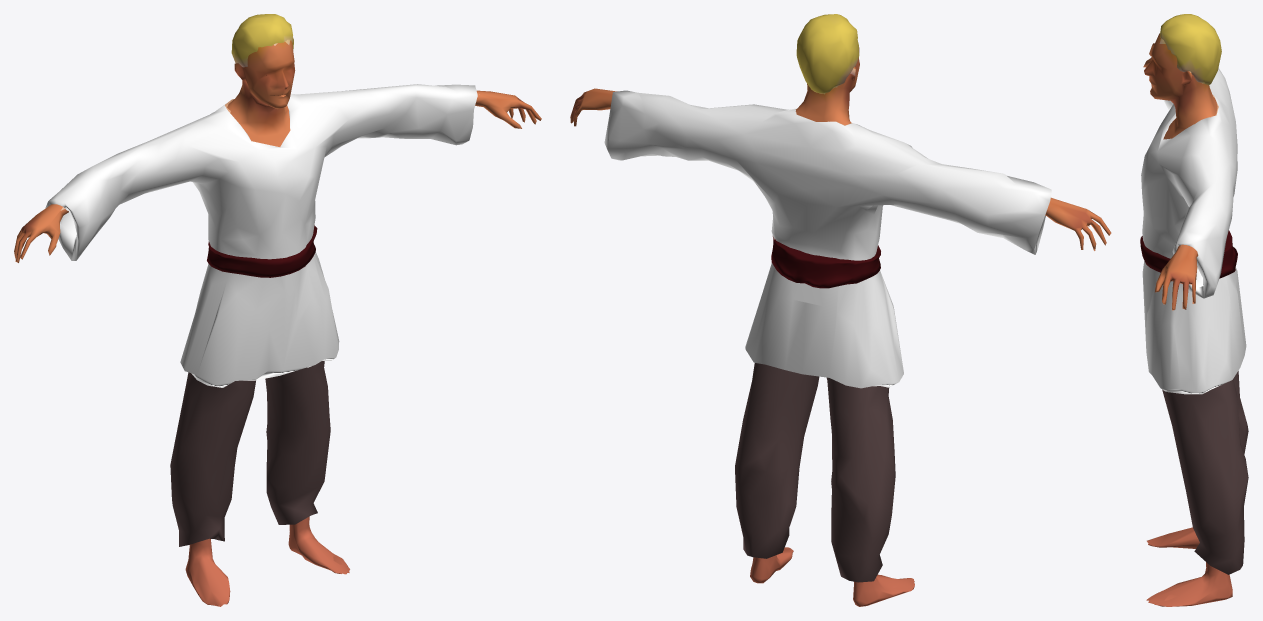
File: Man3.fbx
3 renders of one model, left to right at view 1: azimuth 30°, elevation 25°; view 2: azimuth 150°, elevation 25°; view 3: azimuth 270°, elevation 25°, orthographic.
Visible parts, largest first — view 1: Merged_Extract9; view 2: Merged_Extract9; view 3: Merged_Extract9.
Boxes of the visible parts, box(x1,y1,x2,y2) form: Merged_Extract9: box(14, 14, 541, 606); Merged_Extract9: box(570, 14, 1111, 606); Merged_Extract9: box(1140, 14, 1248, 606).
Bounding box in the file's own units: 280 × 285 × 50.23.
